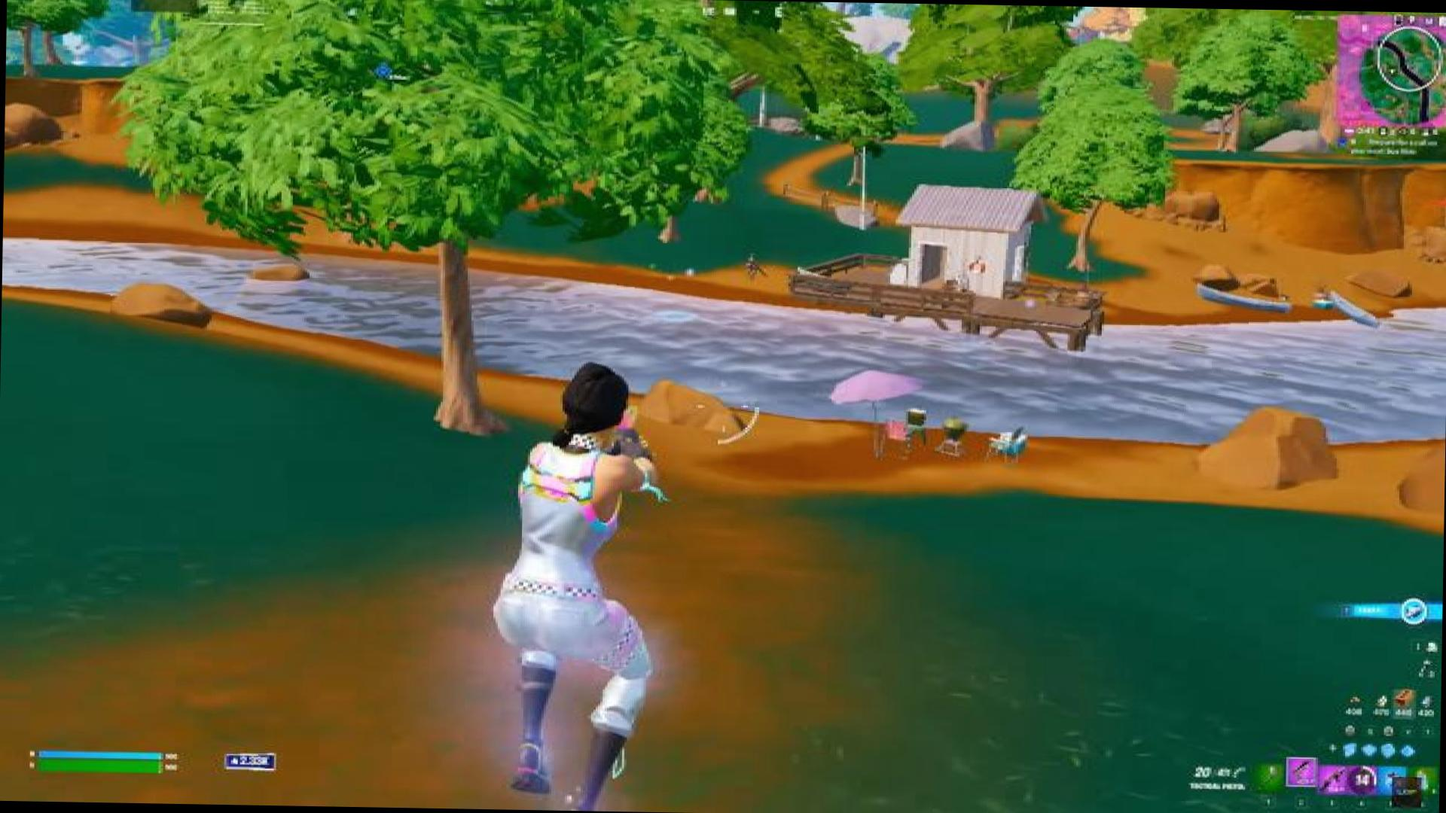player: (418, 352, 757, 813), (741, 248, 764, 285)
